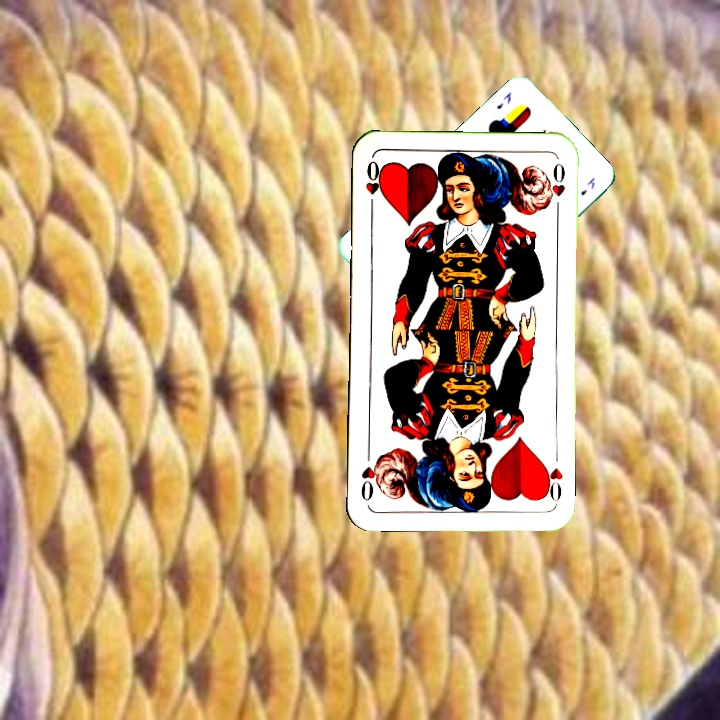EK: (492, 88, 514, 112)
HO: (361, 156, 385, 214), (539, 459, 566, 507)
